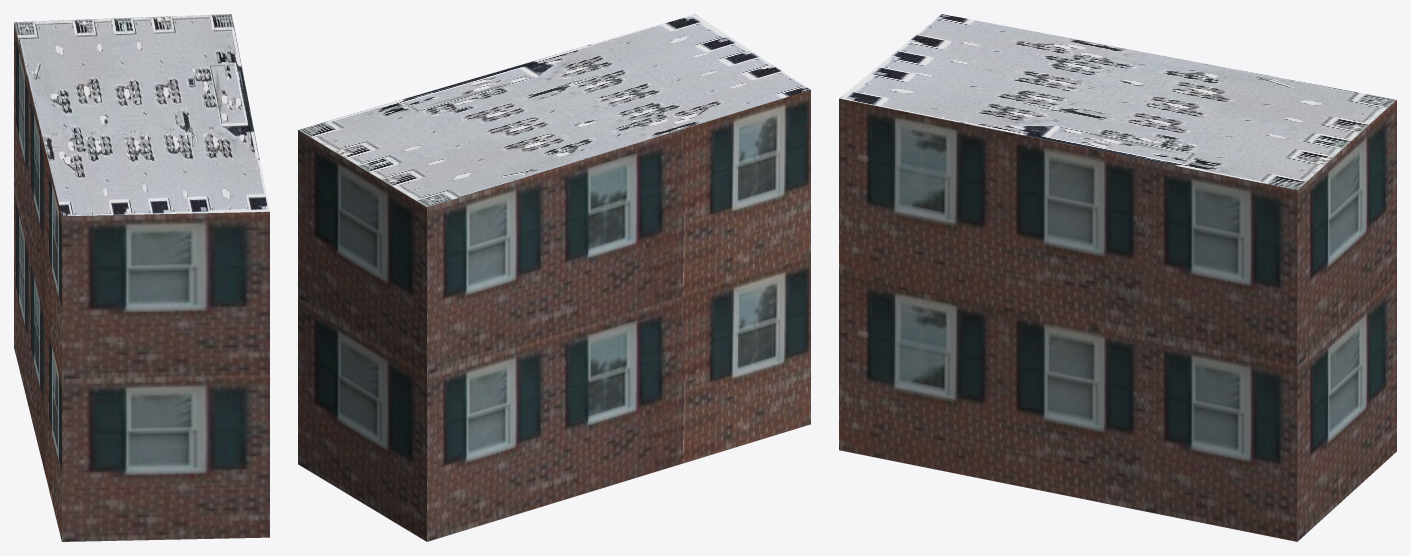
File: ResTex__4927.fbx
The picture shows the model from 3 angles, left to right: view 1: azimuth 30°, elevation 25°; view 2: azimuth 150°, elevation 25°; view 3: azimuth 270°, elevation 25°; orthographic projection. The views are drawn at different scales.
Visible parts, largest first — view 1: CityEngineMaterial_14_m, CityEngineMaterial_m; view 2: CityEngineMaterial_14_m, CityEngineMaterial_m; view 3: CityEngineMaterial_14_m, CityEngineMaterial_m.
Part boxes in pixels (x1,y1,x2,y2): CityEngineMaterial_14_m: (14, 22, 269, 541); CityEngineMaterial_m: (14, 14, 269, 216); CityEngineMaterial_14_m: (298, 90, 810, 541); CityEngineMaterial_m: (298, 14, 810, 207); CityEngineMaterial_14_m: (839, 98, 1396, 541); CityEngineMaterial_m: (839, 14, 1396, 190).
Bounding box in the file's own units: 6.45 × 6 × 8.62.
Materials: 2 (2 with a texture image).
